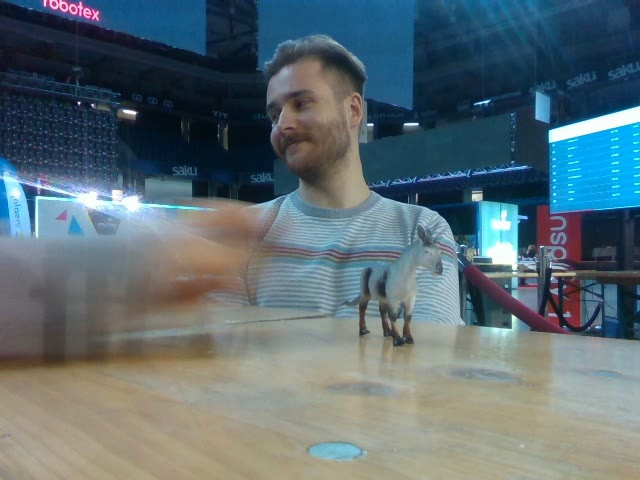toy: (343, 223, 442, 344)
